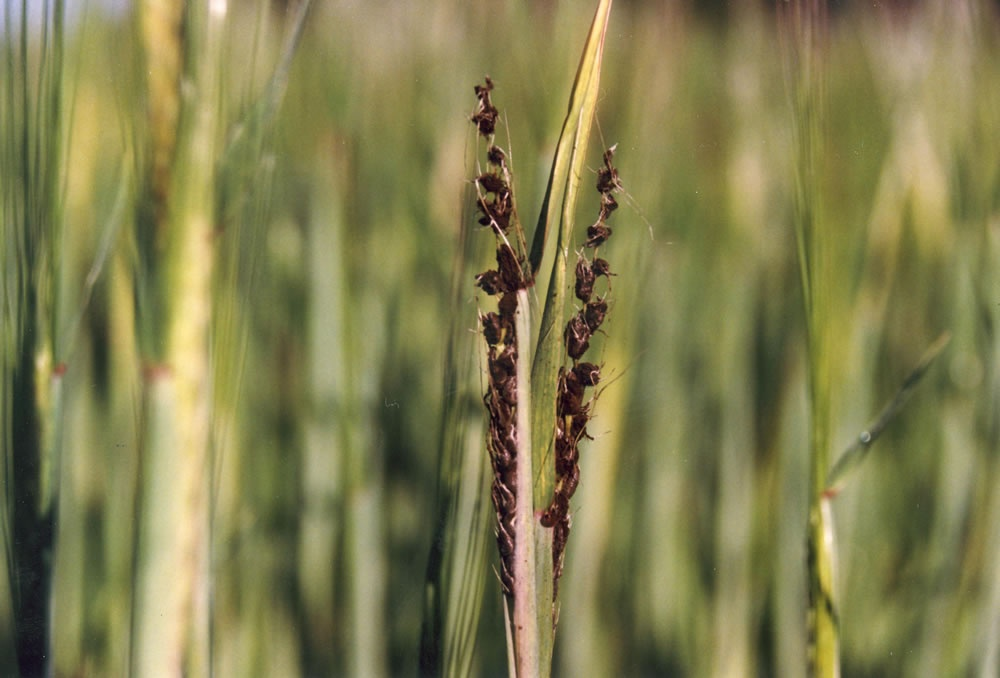Wheat Loose Smut: (442, 80, 627, 586)
